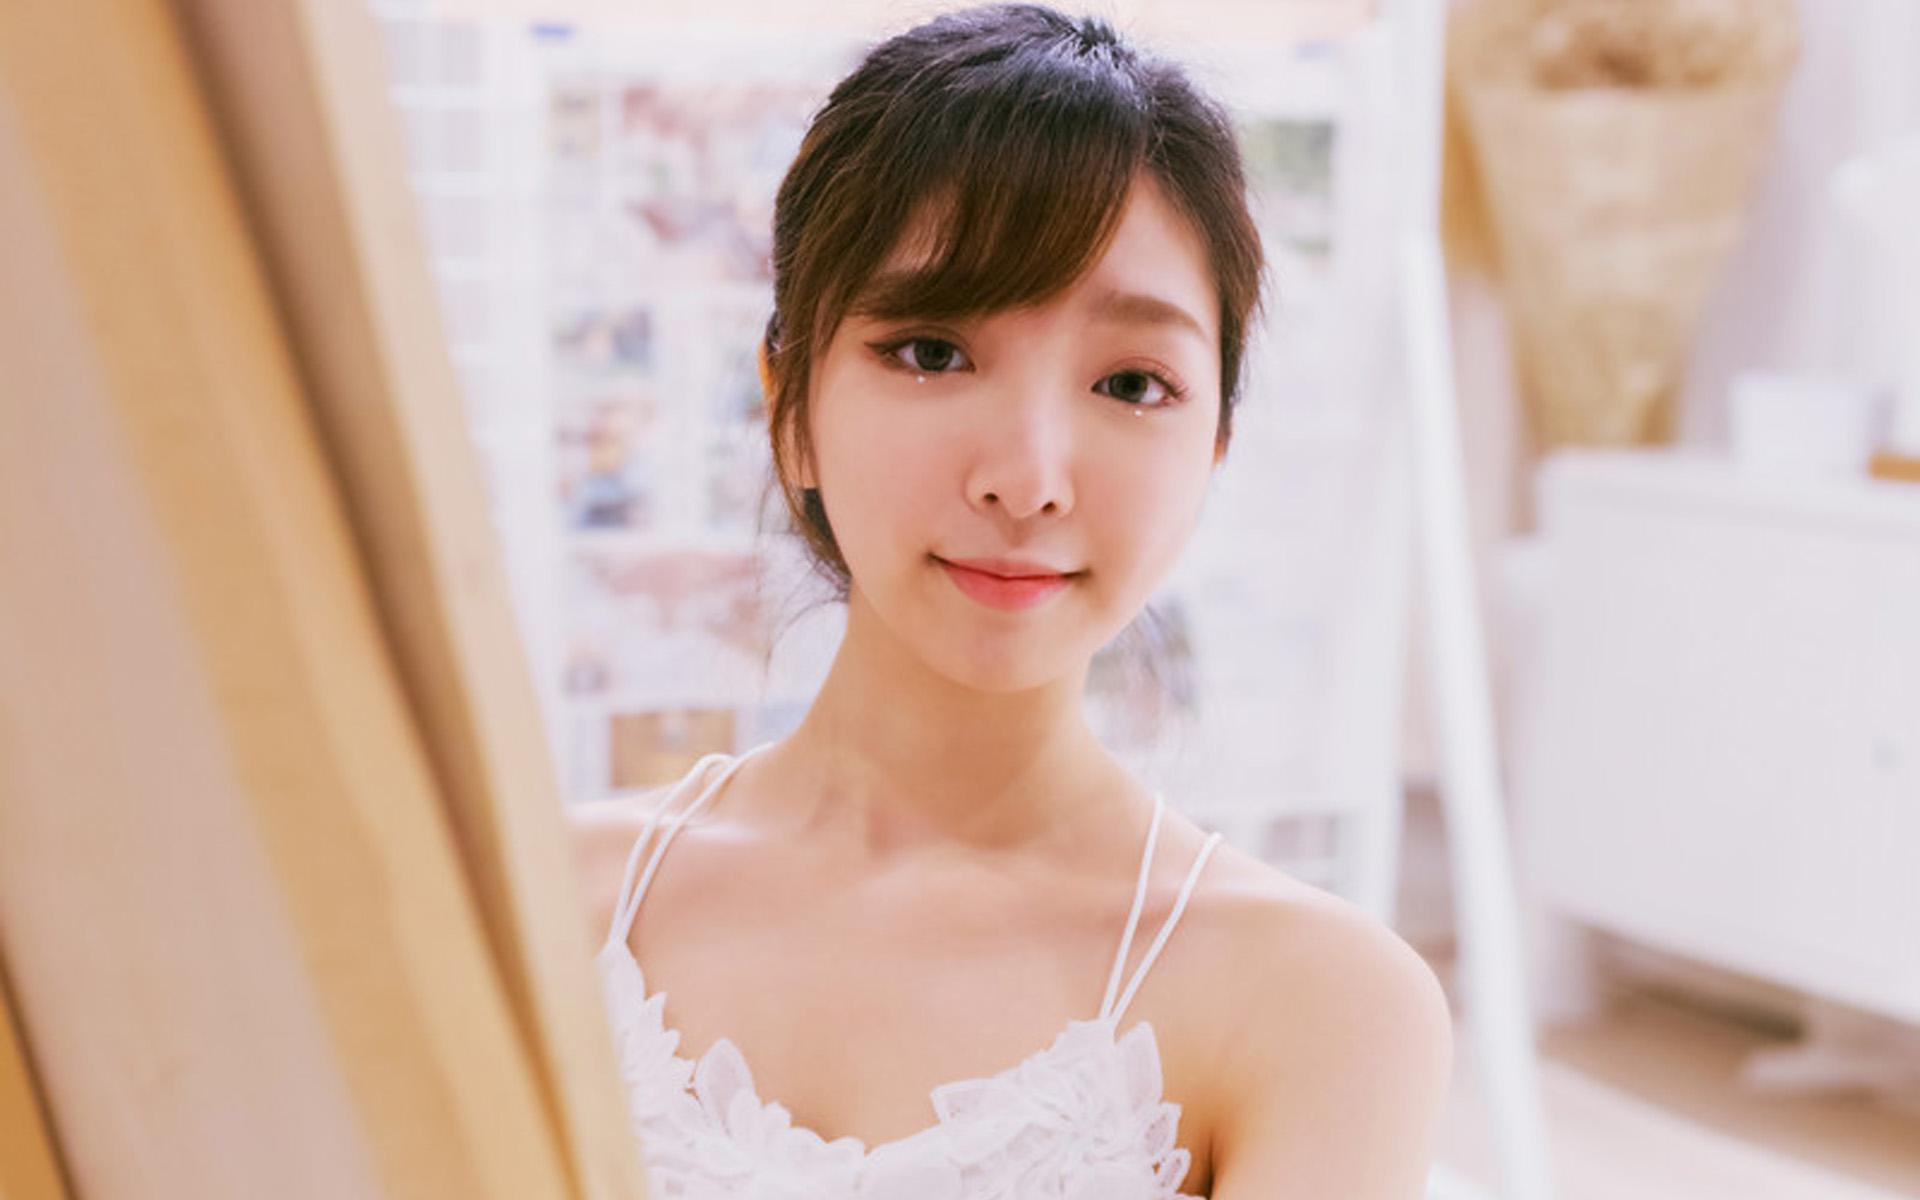person: (626, 26, 1408, 1200)
